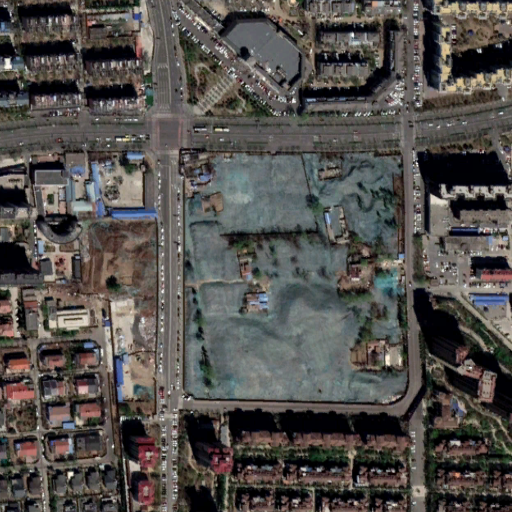cw: (179, 152, 408, 406)
